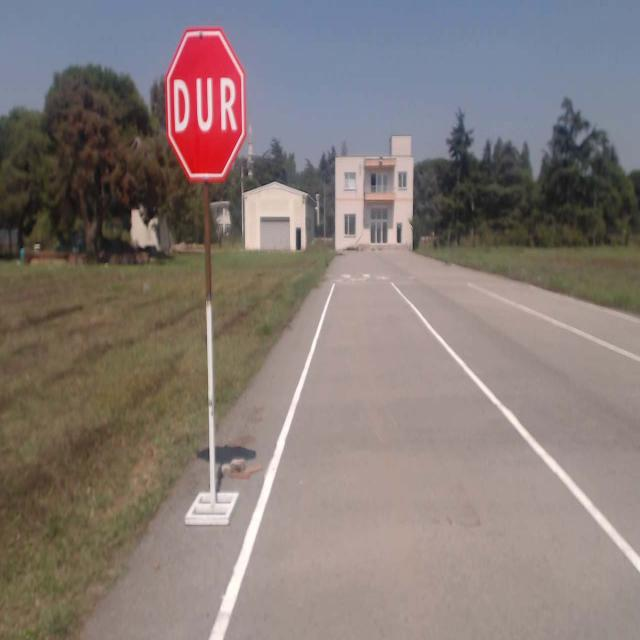dur: (165, 27, 246, 182)
